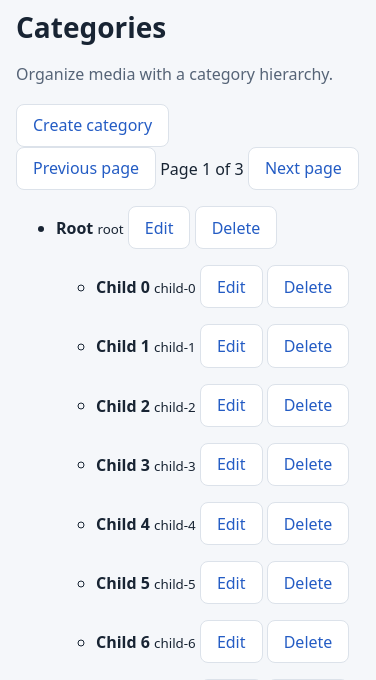
Test: bounds category rows across a large hierarchy and keeps child deletion protected
The width and height of the screenshot is (376, 680).
Expected: the text "Root" is shown, [56, 217, 93, 239]
Expected: the button with aria-label "Delete Root" is disabled, [195, 206, 277, 249]
Click the button "Next page".
click(303, 168)  # box [248, 147, 359, 190]
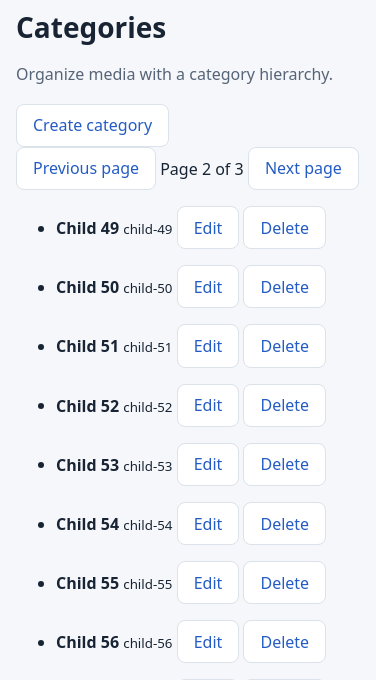
Result: the text "Child 49" is shown at [56, 217, 119, 239]
Result: the text "Root" is gone
Click the button "Next page".
click(303, 168)  # box [248, 147, 359, 190]
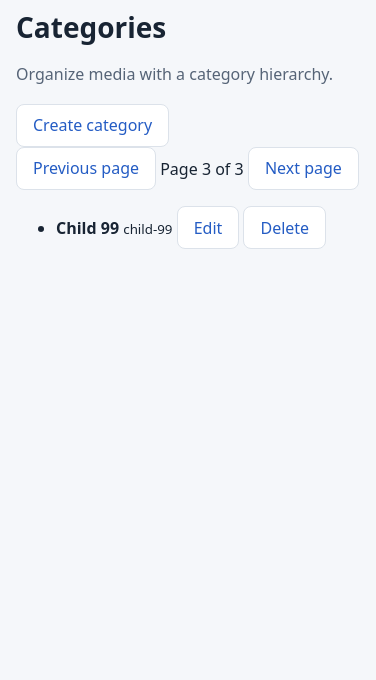
Result: the number of buttons "Edit " is 1 at [177, 206, 239, 249]
Result: the text "Child 99" is shown at [56, 217, 119, 239]
